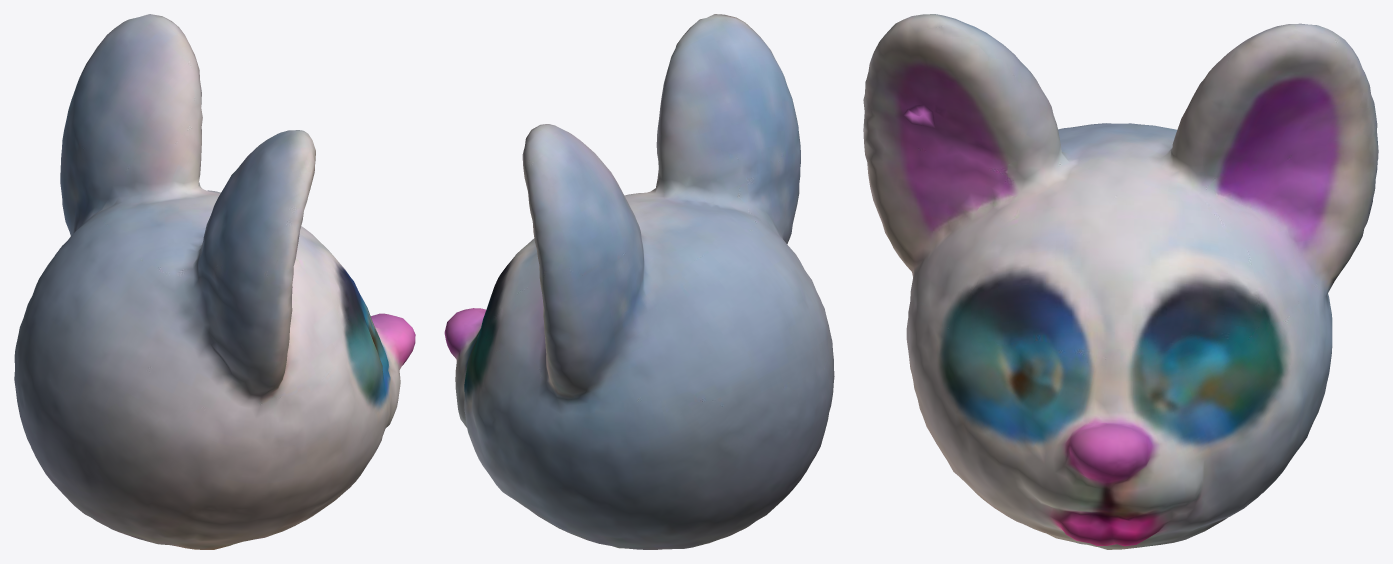
Rendered from 039_Create_rabbit_with_Oval_face_with_large_eyes_a_neutral_0614161846_preview.obj.
The picture shows the model from 3 angles, left to right: view 1: azimuth 30°, elevation 25°; view 2: azimuth 150°, elevation 25°; view 3: azimuth 270°, elevation 25°; orthographic projection. The views are drawn at different scales.
Parts seen in each view (by area): view 1: Mesh1; view 2: Mesh1; view 3: Mesh1.
Boxes of the visible parts, x1,y1,x2,y2 form: Mesh1: (14,14,415,549); Mesh1: (444,14,834,549); Mesh1: (863,14,1378,549).
Size of the model in its own units: 1.01 by 1.2 by 1.07.
Materials: 1 (1 with a texture image).
